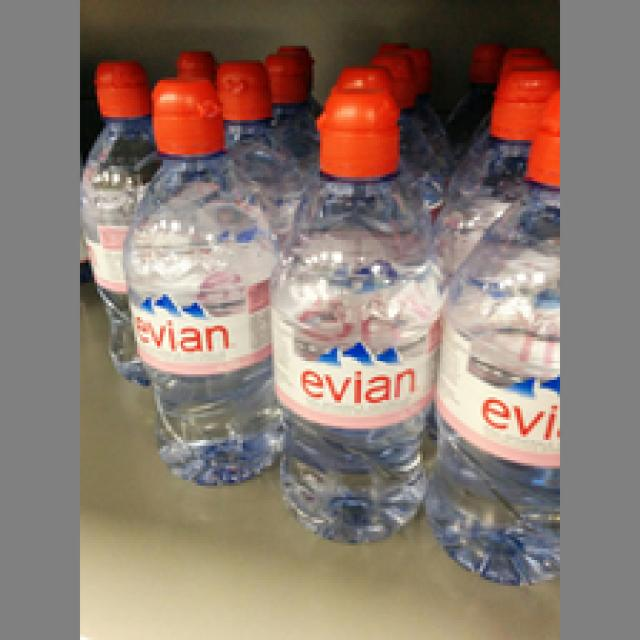groceries: (274, 80, 434, 543), (117, 71, 274, 486), (434, 88, 557, 583)
